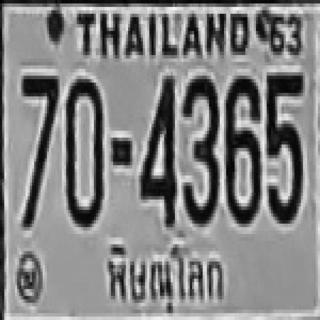N00: (64, 76, 102, 224)
N03: (181, 74, 218, 222)
N04: (139, 72, 175, 224)
N05: (265, 69, 301, 220)
N06: (225, 74, 259, 222)
N07: (19, 74, 58, 226), (19, 72, 58, 179)
P46: (99, 236, 229, 317)
